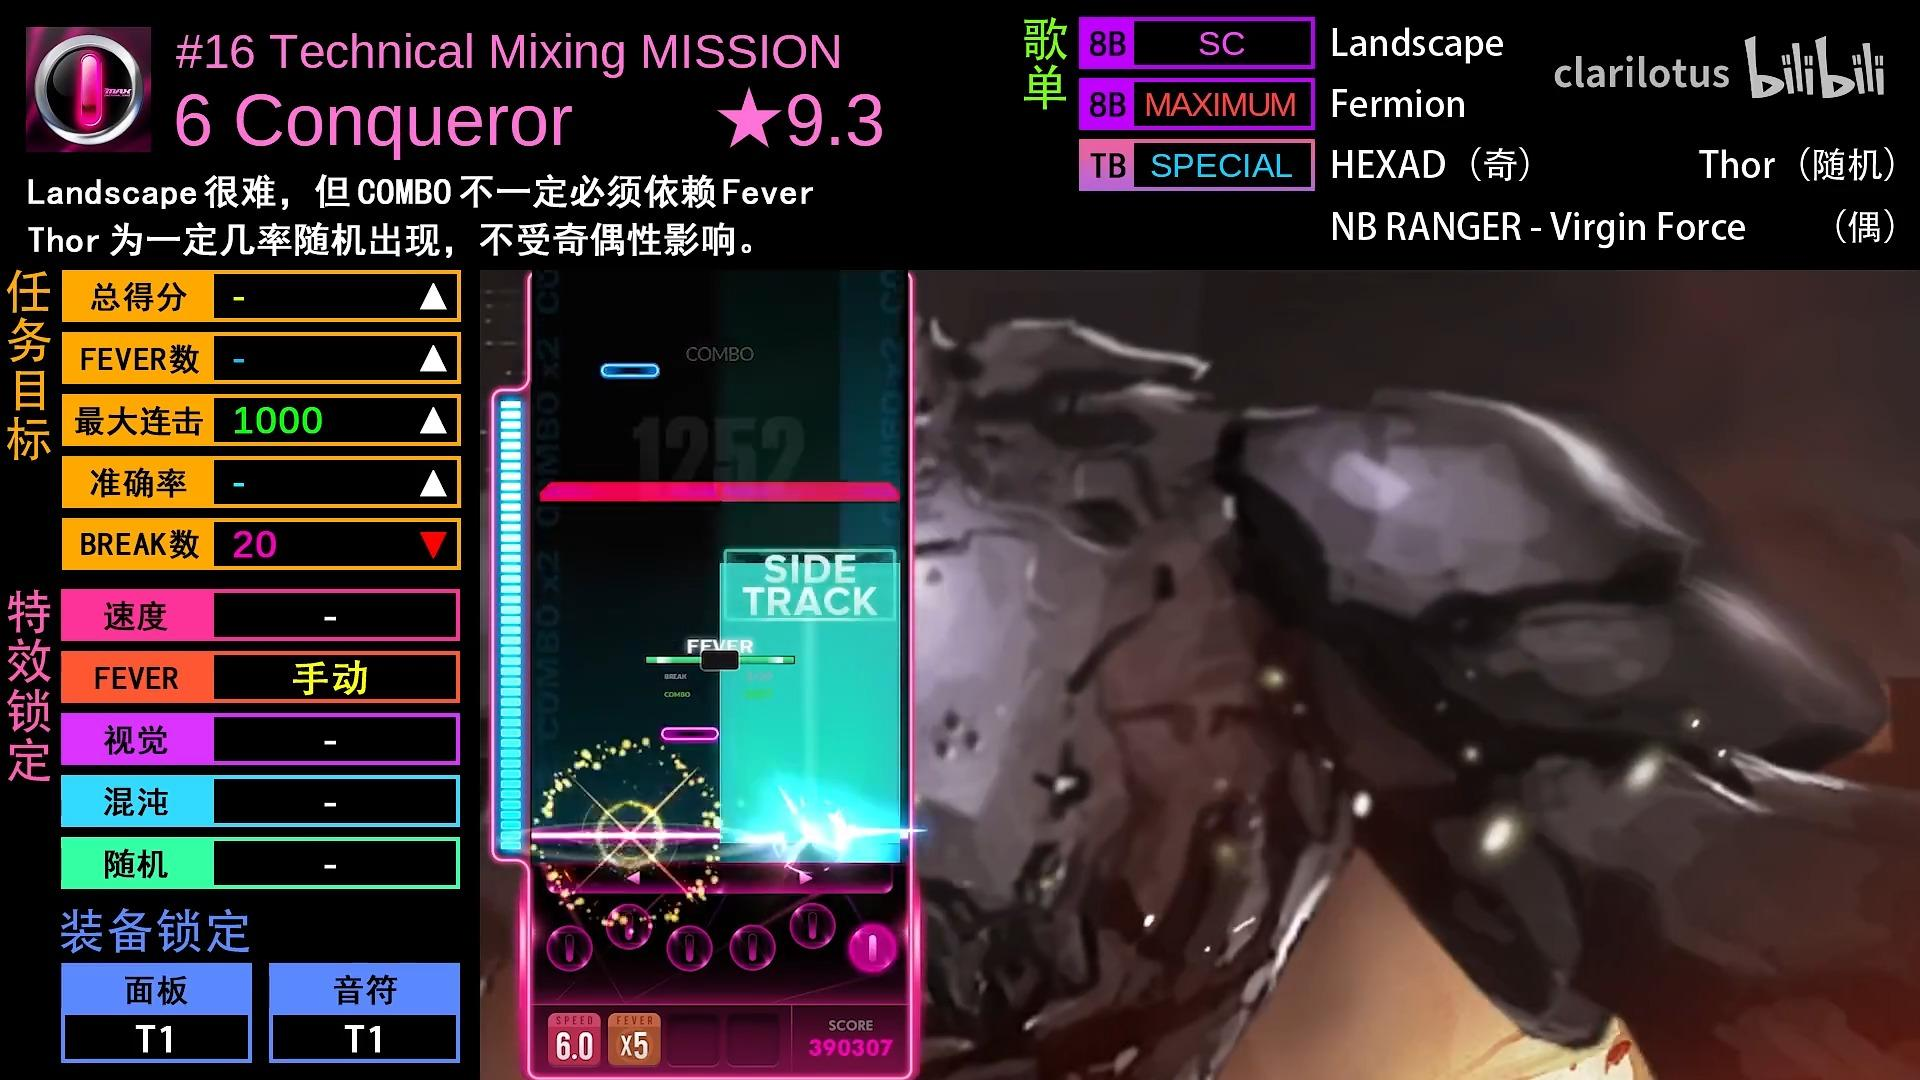note: (601, 364, 661, 380), (661, 727, 719, 742)
side-end: (719, 562, 899, 585)
xnote: (717, 481, 899, 500), (541, 483, 720, 501)
